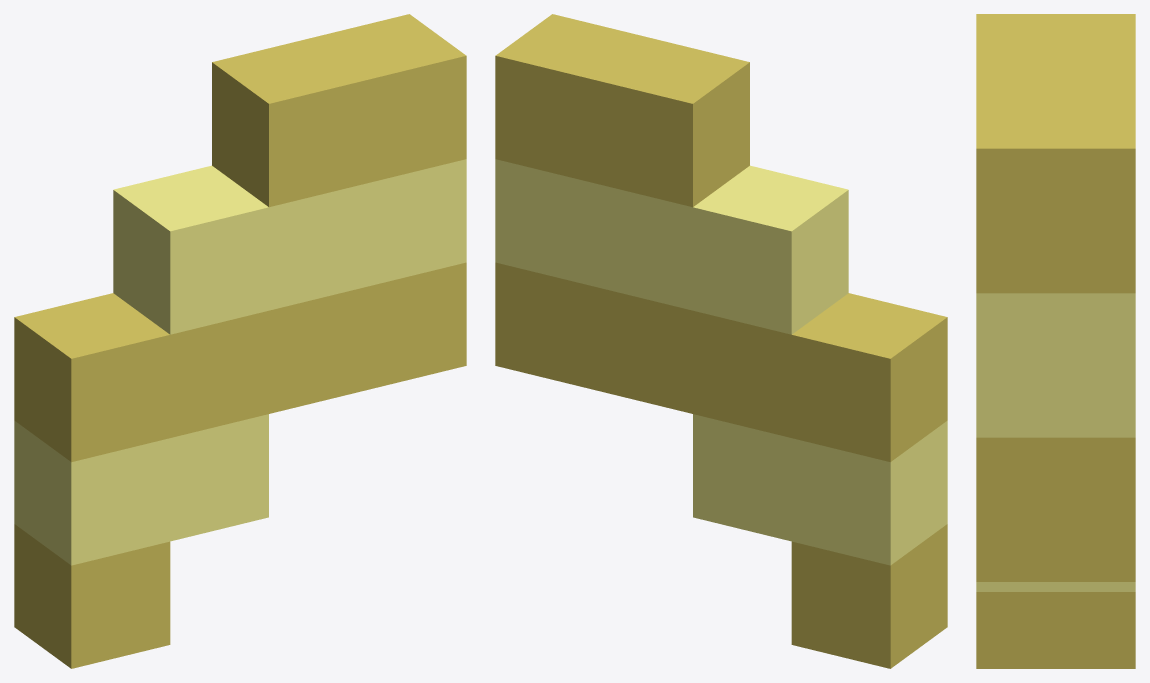
File: YellowHouseParts-28.obj
3 renders of one model, left to right at view 1: azimuth 30°, elevation 25°; view 2: azimuth 150°, elevation 25°; view 3: azimuth 270°, elevation 25°, orthographic. The views are drawn at different scales.
Size of the model in its own units: 0.4 by 0.5 by 0.1.
Materials: 1 (1 with a texture image).
